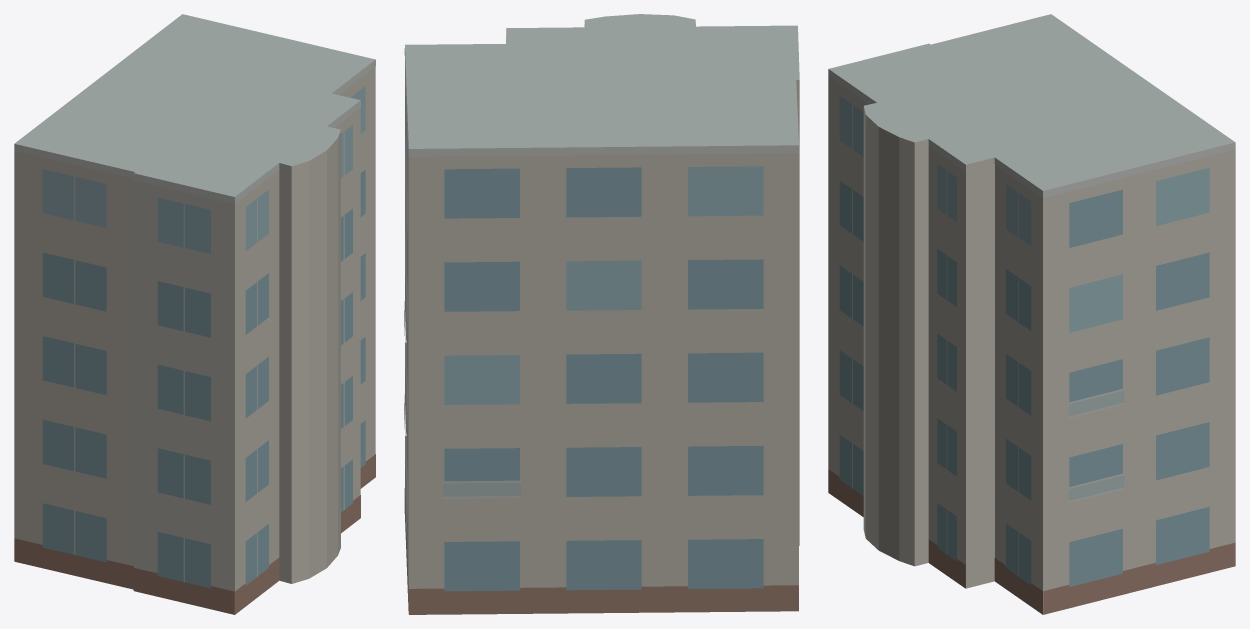
Rendered from survey-upis-32974922.glb.
3 renders of one model, left to right at view 1: azimuth 30°, elevation 25°; view 2: azimuth 150°, elevation 25°; view 3: azimuth 270°, elevation 25°, orthographic. The views are drawn at different scales.
Visible parts, largest first — view 1: survey-upis-32974922.tmp; view 2: survey-upis-32974922.tmp; view 3: survey-upis-32974922.tmp.
Part boxes in pixels (x1,y1,x2,y2): survey-upis-32974922.tmp: [14, 14, 375, 614]; survey-upis-32974922.tmp: [404, 14, 799, 614]; survey-upis-32974922.tmp: [828, 14, 1235, 614].
Size of the model in its own units: 13.08 by 14.6 by 12.72.
